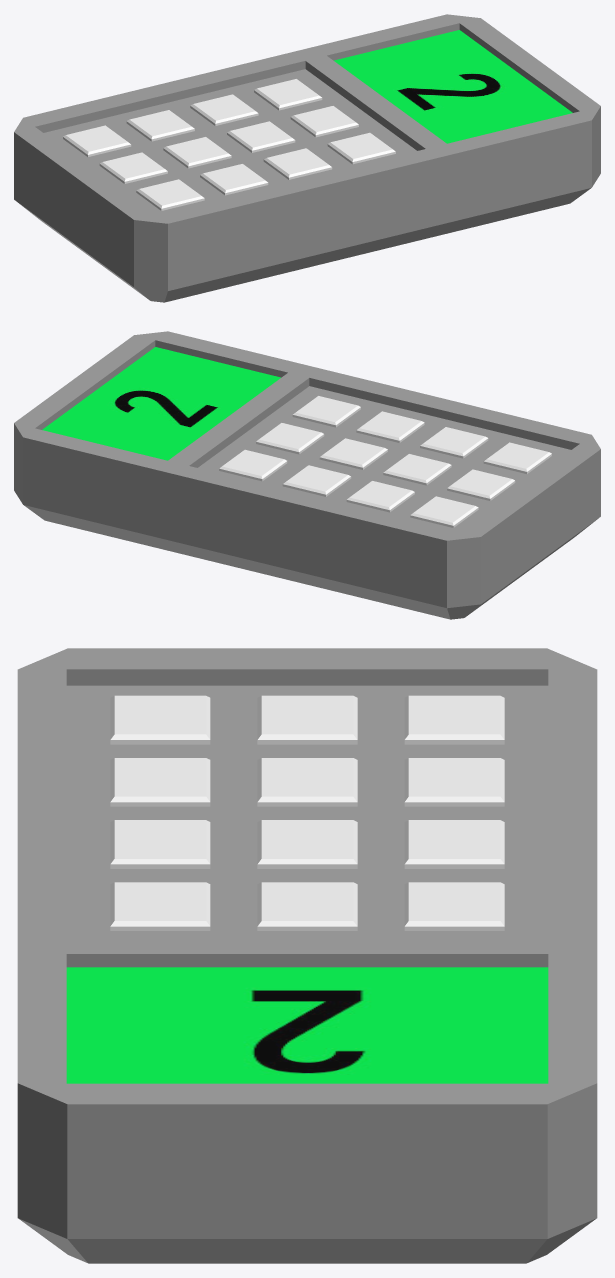
Rendered from phone_3_solved.glb.
3 renders of one model, top to bottom at view 1: azimuth 30°, elevation 25°; view 2: azimuth 150°, elevation 25°; view 3: azimuth 270°, elevation 25°, orthographic. The views are drawn at different scales.
Parts seen in each view (by area): view 1: phone_3_solved; view 2: phone_3_solved; view 3: phone_3_solved.
Boxes of the visible parts, <box> form: phone_3_solved: <box>14,14,600,302</box>; phone_3_solved: <box>14,331,600,619</box>; phone_3_solved: <box>17,648,597,1263</box>.
Bounding box in the file's own units: 0.3353 × 0.0622 × 0.1801.
Materials: 4 (2 with a texture image).
